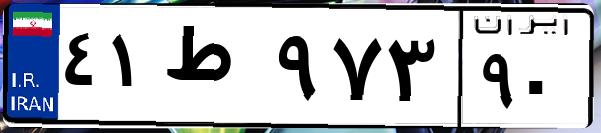0: (525, 38, 570, 115)
1: (110, 28, 158, 98)
3: (385, 28, 445, 110)
4: (57, 26, 110, 100)
7: (330, 28, 385, 110)
9: (270, 28, 330, 110), (475, 38, 525, 113)
ط: (158, 20, 270, 120)
